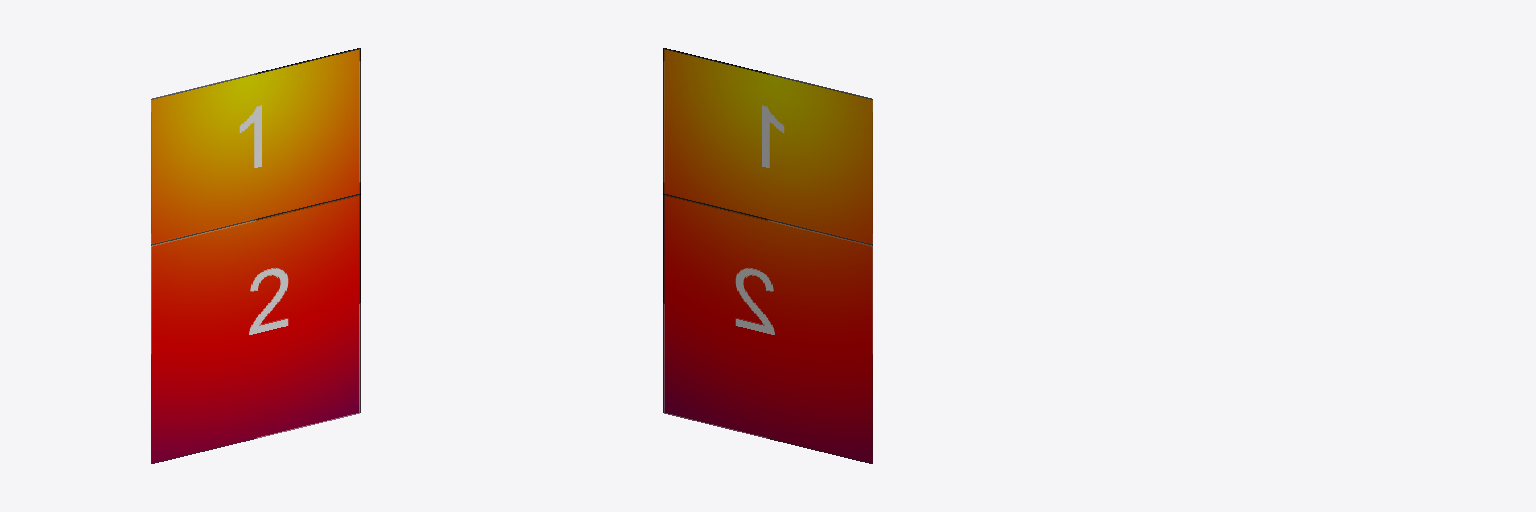
3 views of the same model, side by side, from view 1: azimuth 30°, elevation 25°; view 2: azimuth 150°, elevation 25°; view 3: azimuth 270°, elevation 25° (orthographic).
Parts seen in each view (by area): view 1: Plane; view 2: Plane; view 3: none.
Part boxes in pixels (left/top/right/bottom): Plane: left=151, top=48, right=360, bottom=463; Plane: left=663, top=48, right=872, bottom=463.
Bounding box in the file's own units: 2 × 3.33 × 0.
Materials: 1 (1 with a texture image).